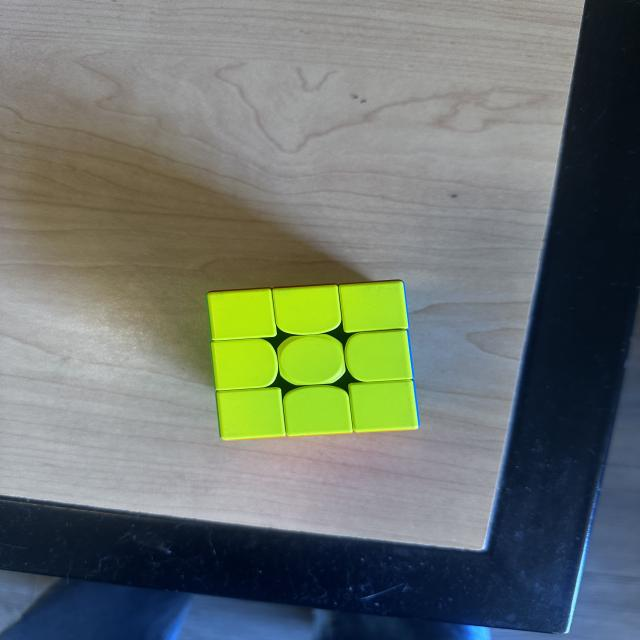sticker: (208, 336, 281, 393), (270, 283, 344, 337), (282, 383, 354, 438), (276, 332, 348, 387), (348, 379, 418, 435), (343, 328, 414, 383), (215, 387, 287, 441), (206, 288, 278, 342), (337, 280, 408, 334)
